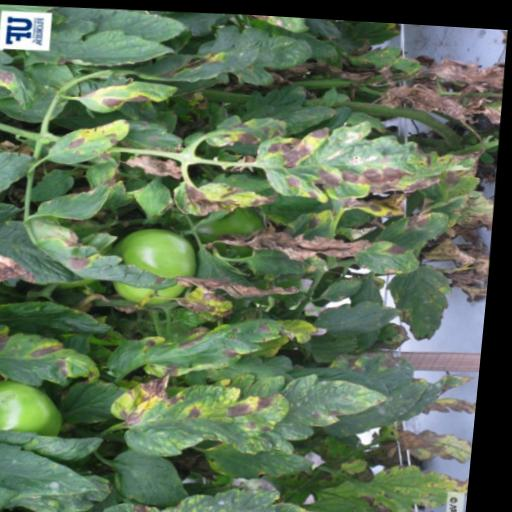Early Blight: (98, 305, 334, 384), (108, 372, 311, 459), (215, 365, 398, 457), (258, 124, 462, 206), (27, 216, 181, 294), (0, 197, 93, 286), (165, 469, 356, 512), (0, 319, 109, 391), (385, 256, 460, 338), (373, 455, 479, 505), (175, 166, 265, 223), (49, 123, 143, 168), (36, 172, 121, 221), (203, 111, 309, 150), (317, 292, 409, 335), (82, 74, 174, 116), (378, 203, 454, 247), (360, 233, 430, 275), (0, 48, 42, 111)
